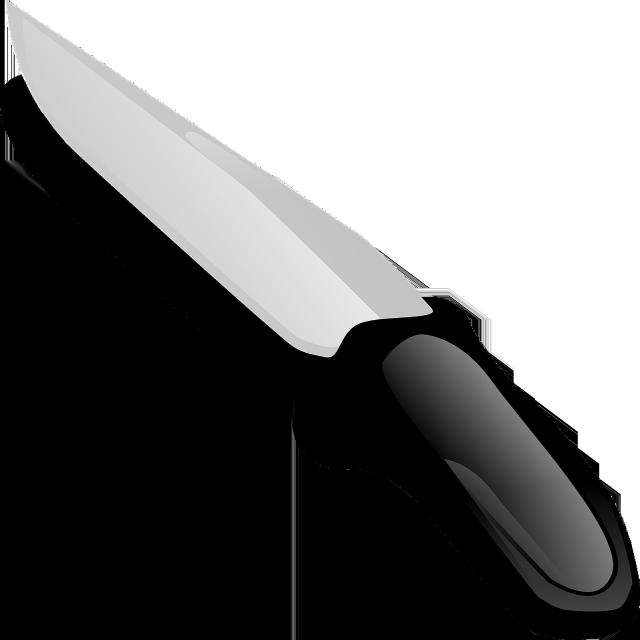Knife: (7, 6, 639, 638)
